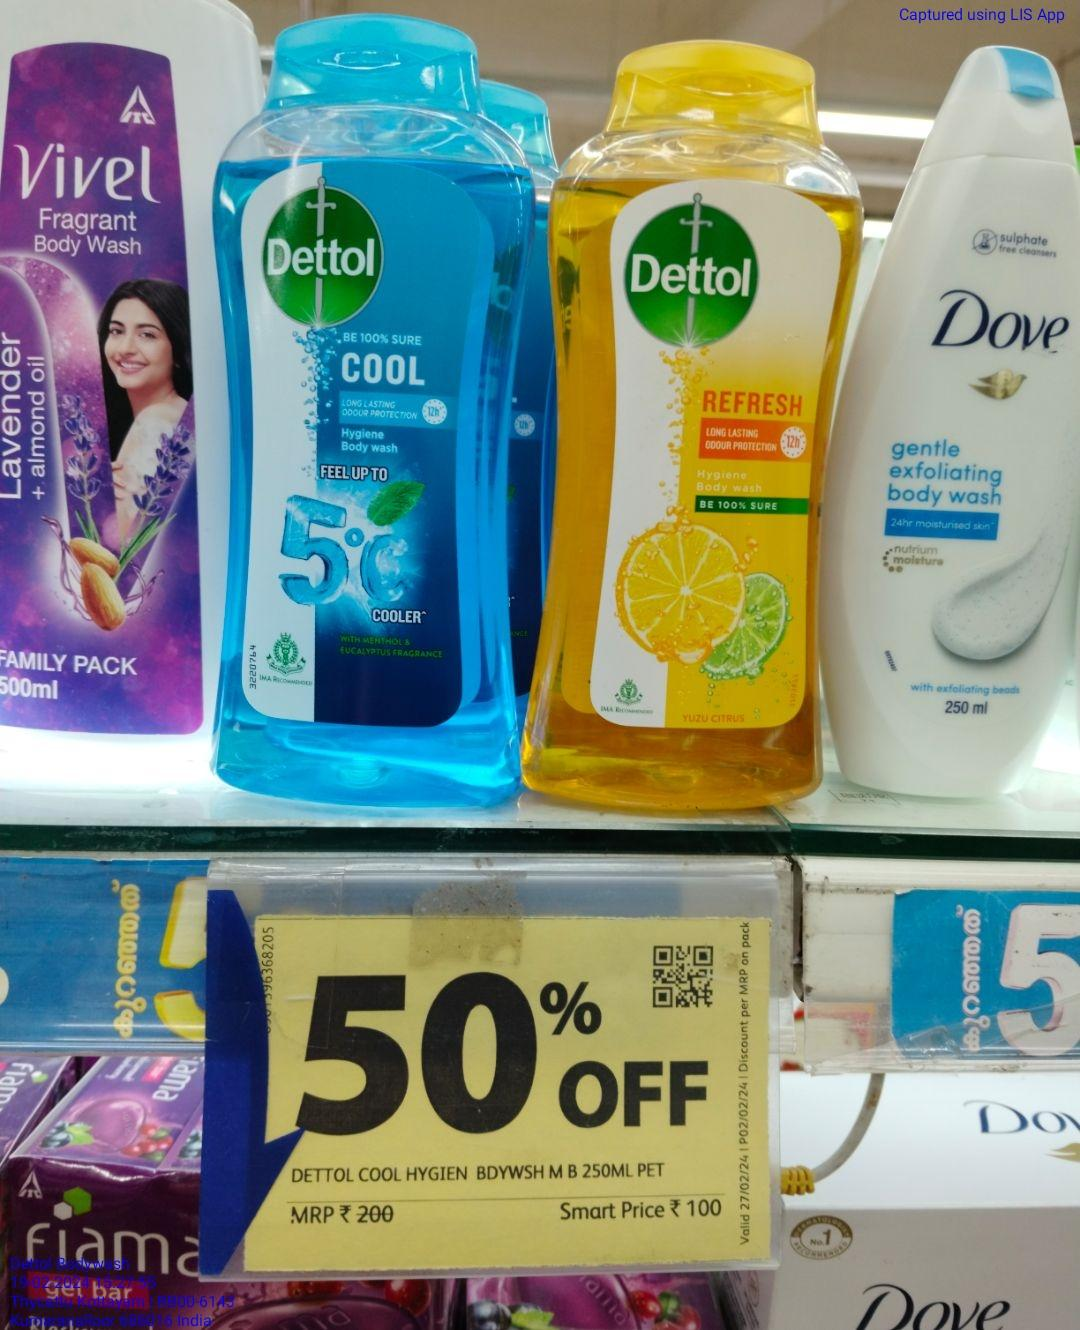Dettol_Bodywash_Cool: (208, 3, 519, 798)
Dettol_Bodywash_Refresh: (532, 45, 841, 803)
Dove_Gentle_Exfoliating_Body_Wash_250ML: (846, 34, 1080, 807)
